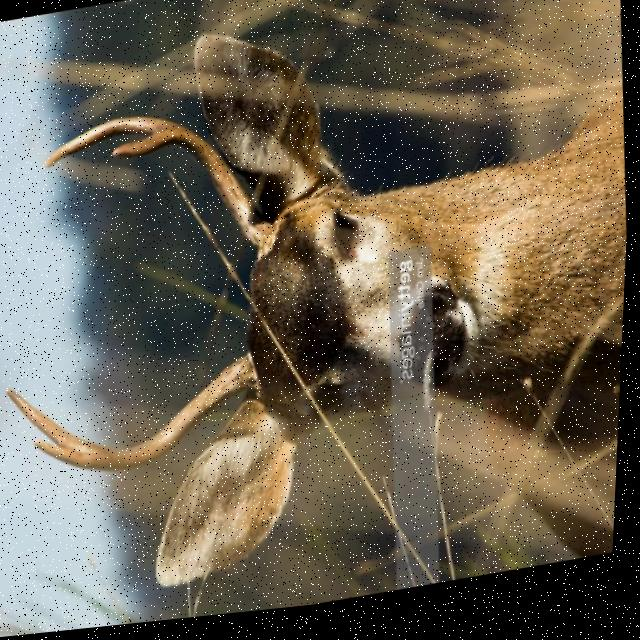R-F: (45, 120, 278, 260)
R-G1: (112, 137, 170, 160)
